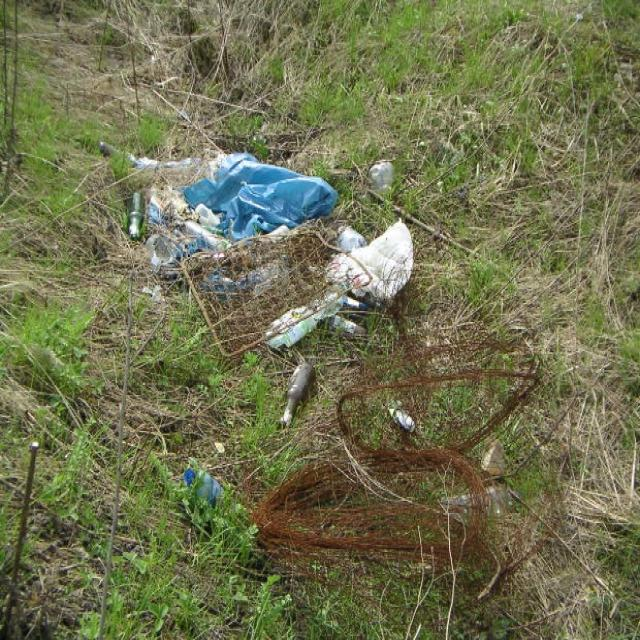glass: (256, 365, 317, 424), (129, 183, 146, 249), (105, 140, 138, 168)
plastic: (182, 472, 235, 502)
trash: (158, 160, 416, 346)
